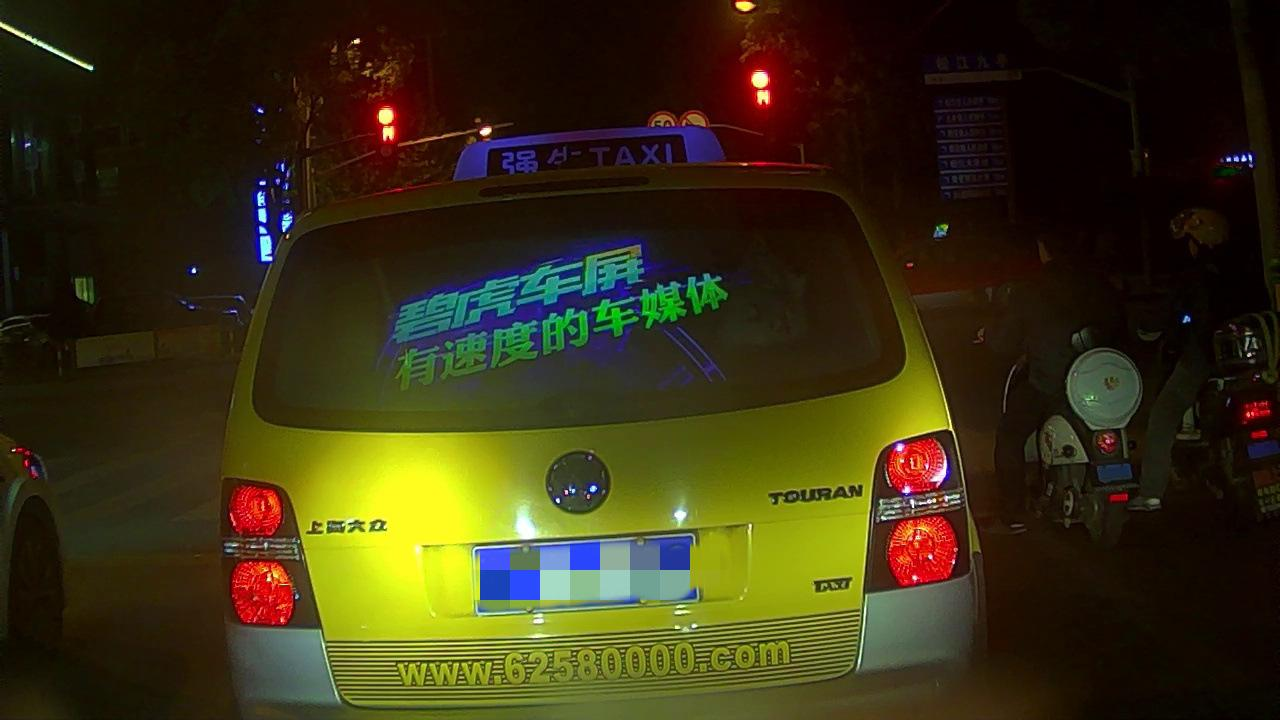traffic_light: (742, 66, 779, 112), (370, 104, 403, 146)
